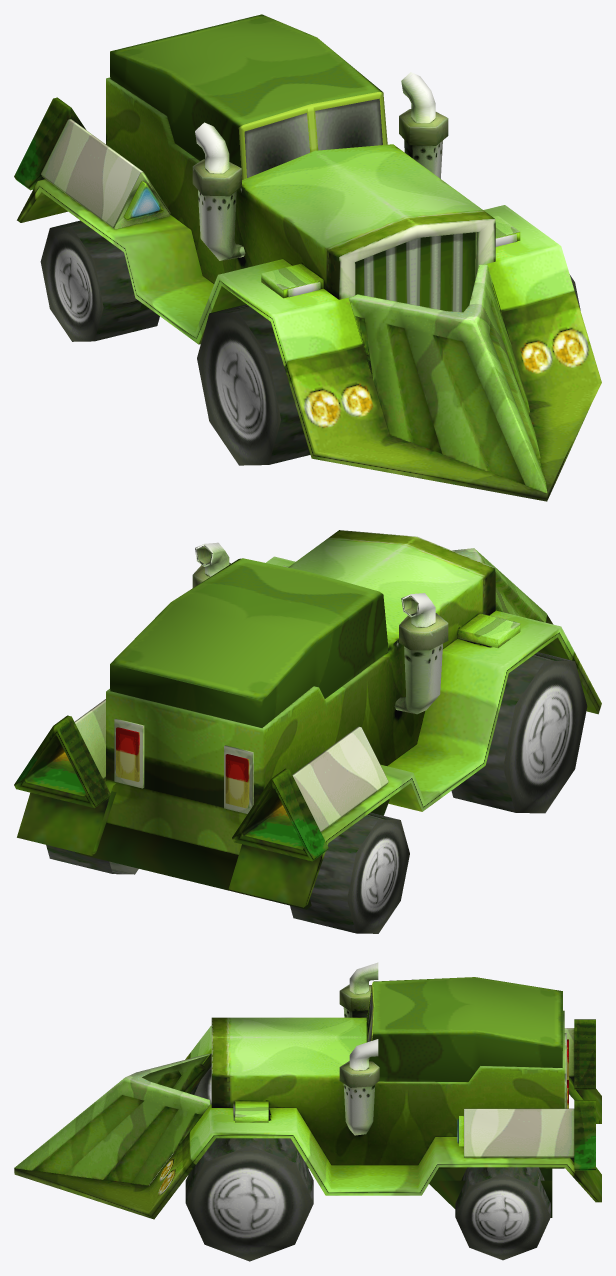
File: npc_car_3.fbx
The picture shows the model from 3 angles, top to bottom: view 1: azimuth 30°, elevation 25°; view 2: azimuth 150°, elevation 25°; view 3: azimuth 270°, elevation 25°; orthographic projection. The views are drawn at different scales.
Visible parts, largest first — view 1: npc_car_3; view 2: npc_car_3; view 3: npc_car_3.
Part boxes in pixels (bbox=[...]): npc_car_3: bbox=[14, 14, 601, 501]; npc_car_3: bbox=[14, 530, 601, 933]; npc_car_3: bbox=[14, 962, 601, 1261].
Size of the model in its own units: 23.28 by 19.54 by 50.96.
